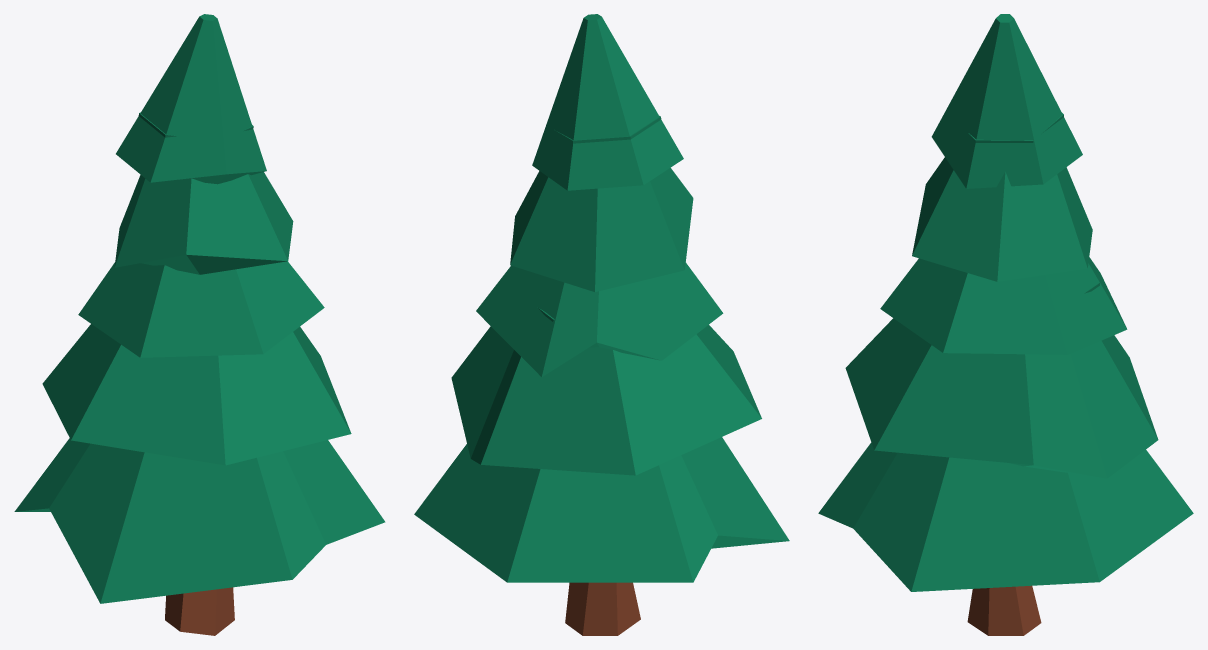
Rendered from Week12 TreeLarge.fbx.
The picture shows the model from 3 angles, left to right: view 1: azimuth 30°, elevation 25°; view 2: azimuth 150°, elevation 25°; view 3: azimuth 270°, elevation 25°; orthographic projection.
Parts seen in each view (by area): view 1: Cylinder.008, Cylinder.009, Cylinder.010, Cylinder.012, Cylinder.011, Cylinder.007; view 2: Cylinder.008, Cylinder.009, Cylinder.011, Cylinder.010, Cylinder.012, Cylinder.007; view 3: Cylinder.008, Cylinder.009, Cylinder.010, Cylinder.011, Cylinder.012, Cylinder.007.
Boxes of the visible parts, x1,y1,x2,y2 form: Cylinder.008: [14, 438, 385, 603]; Cylinder.009: [42, 324, 351, 465]; Cylinder.010: [78, 261, 324, 357]; Cylinder.012: [116, 14, 266, 184]; Cylinder.011: [114, 172, 293, 274]; Cylinder.007: [165, 587, 234, 635]; Cylinder.008: [414, 437, 789, 582]; Cylinder.009: [451, 325, 761, 475]; Cylinder.011: [510, 168, 693, 291]; Cylinder.010: [476, 262, 723, 377]; Cylinder.012: [532, 14, 683, 190]; Cylinder.007: [565, 582, 640, 635]; Cylinder.008: [818, 442, 1193, 591]; Cylinder.009: [845, 318, 1158, 478]; Cylinder.010: [880, 257, 1127, 354]; Cylinder.011: [912, 157, 1092, 281]; Cylinder.012: [931, 14, 1082, 188]; Cylinder.007: [967, 585, 1041, 635].
Size of the model in its own units: 717 by 1455 by 811.
